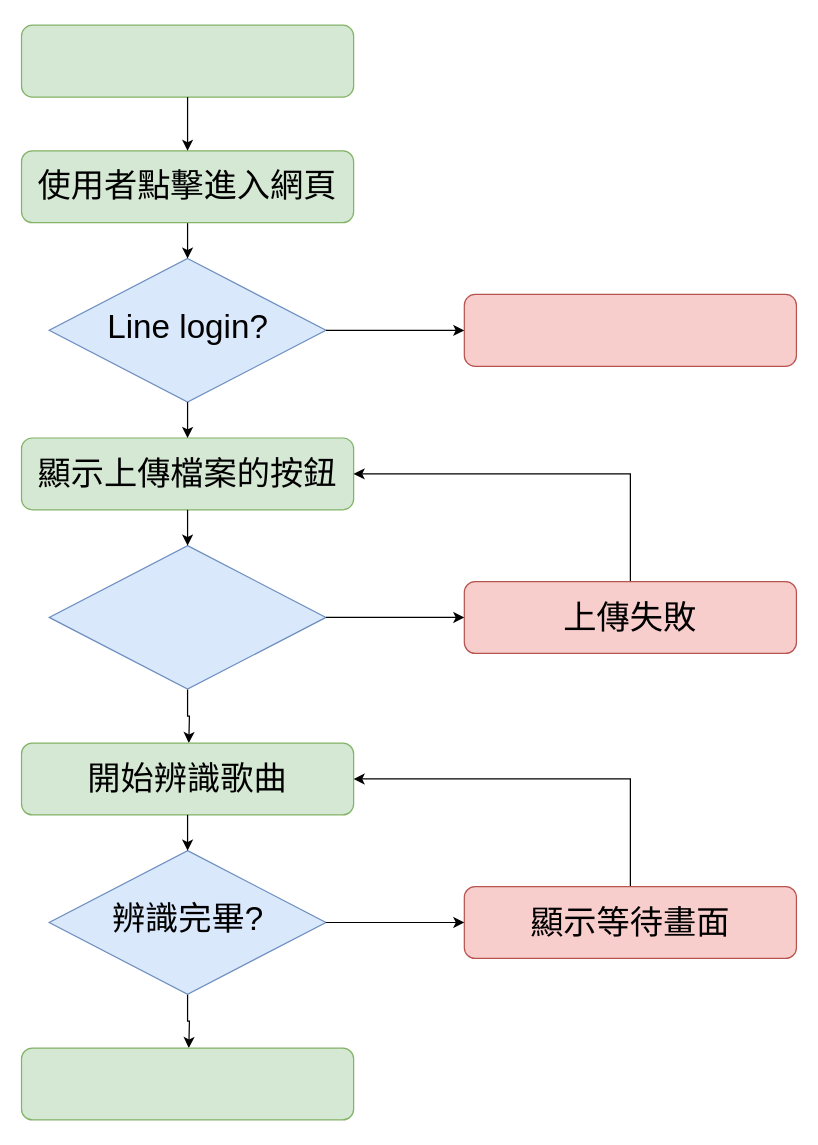
The diagram is 818 pixels wide and 1145 high, and some of its shapes have lost their labels. The centre of each missing label's shape, as x and y in pixels:
mp3 or wav format?: (x=187, y=616)
在line聊天中回傳該使用者上船的音檔資訊: (x=187, y=1083)
在下方資訊欄提供上傳檔案的網址: (x=187, y=60)
無法使用網站: (x=629, y=329)
